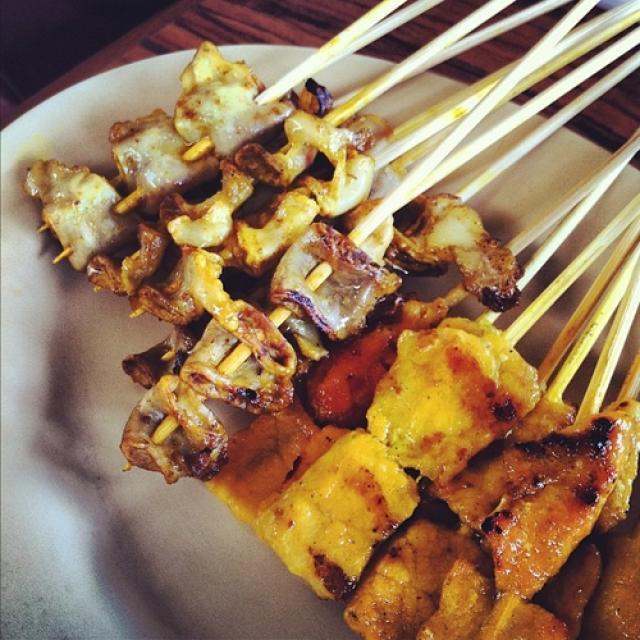牛肉菜式: (19, 32, 612, 618)
